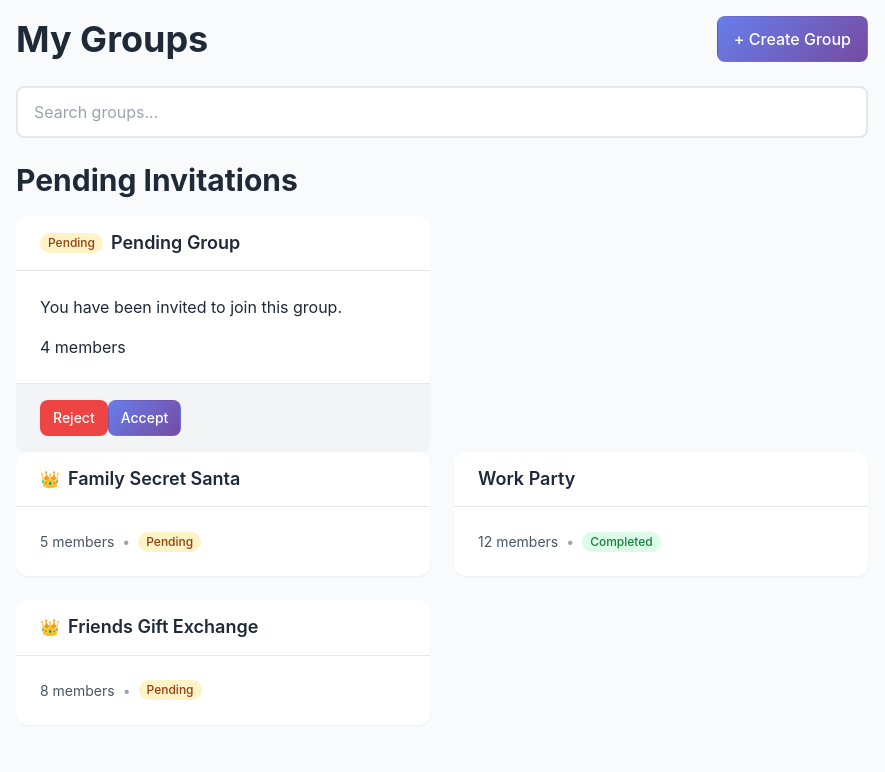
it: GroupListComponent › Pending Invitations › should show invitation error on reject failure
Click the button with test id "reject-pending-1" at (74,418), box [40,400,108,436]
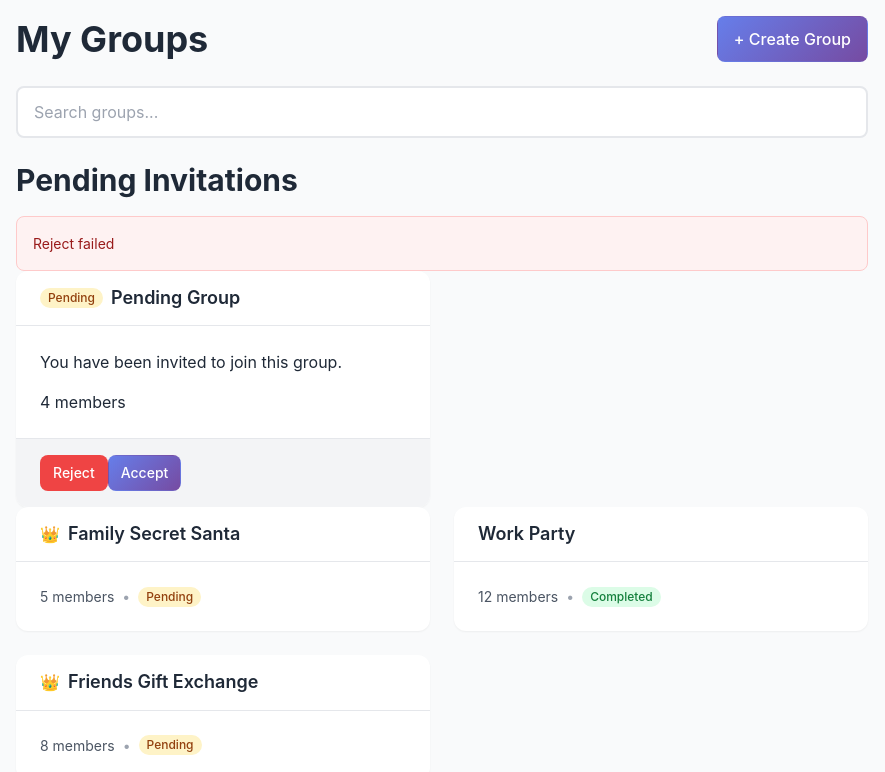
Expected: the text "Reject failed" is shown, [33,232,114,254]
